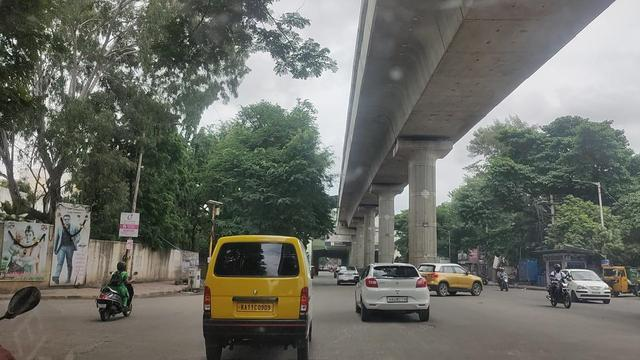LMV: (205, 231, 314, 356), (357, 263, 428, 319), (96, 260, 134, 318), (337, 263, 357, 284)
RoadDamages: (68, 330, 122, 360), (322, 319, 358, 356), (492, 345, 544, 360), (420, 317, 440, 335)
